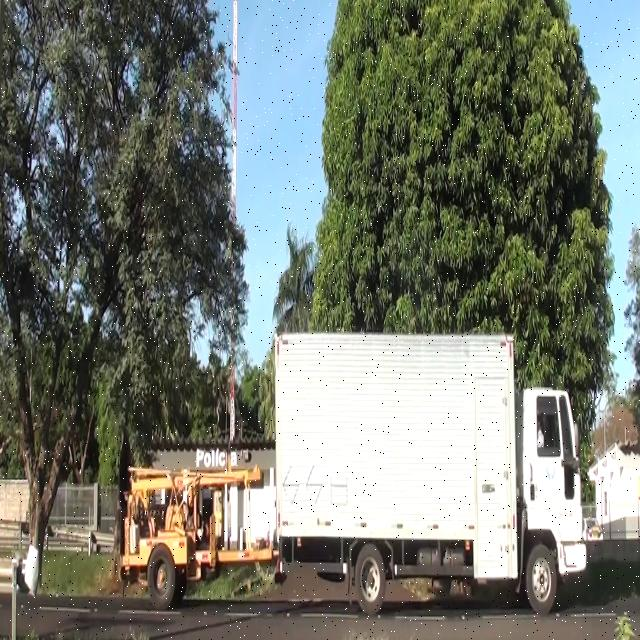-axle: (355, 544, 388, 610), (526, 547, 558, 608)
